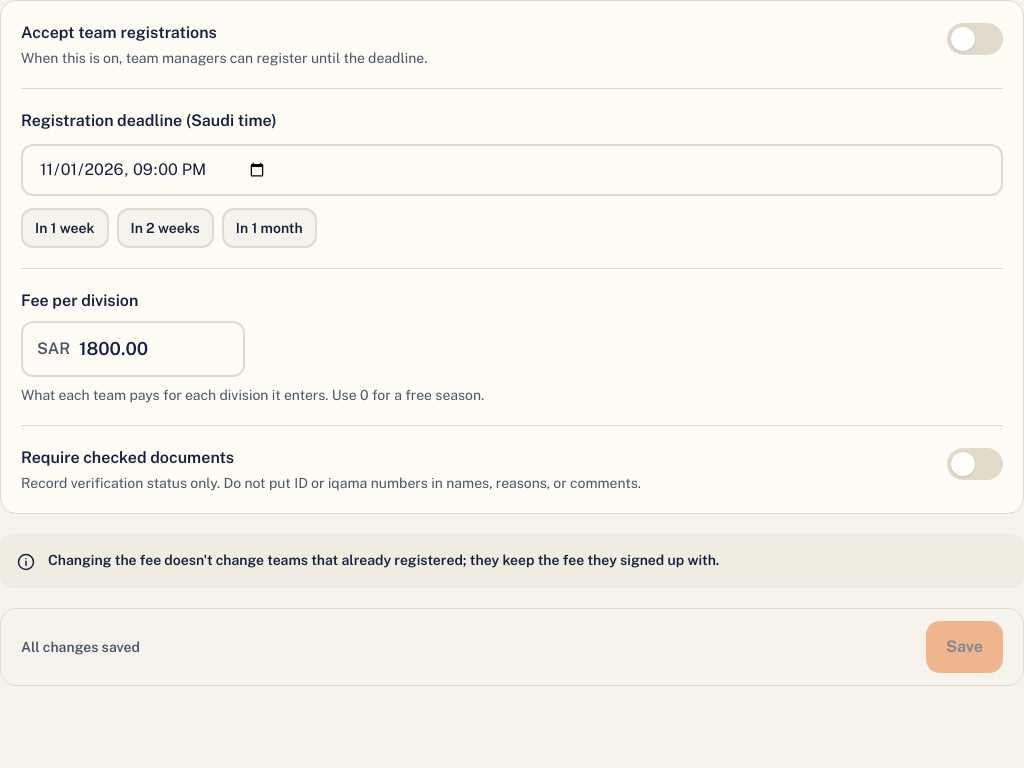
Test: registration settings › only offers Save once something changed
Expected: the button "Save" is disabled, [926,621,1003,673]
Expected: the text "All changes saved" is shown, [21,639,140,655]
Click the switch named "Accept team registrations" in the row of "Accept team registrations".
click(975, 39)  # box [947,23,1003,55]
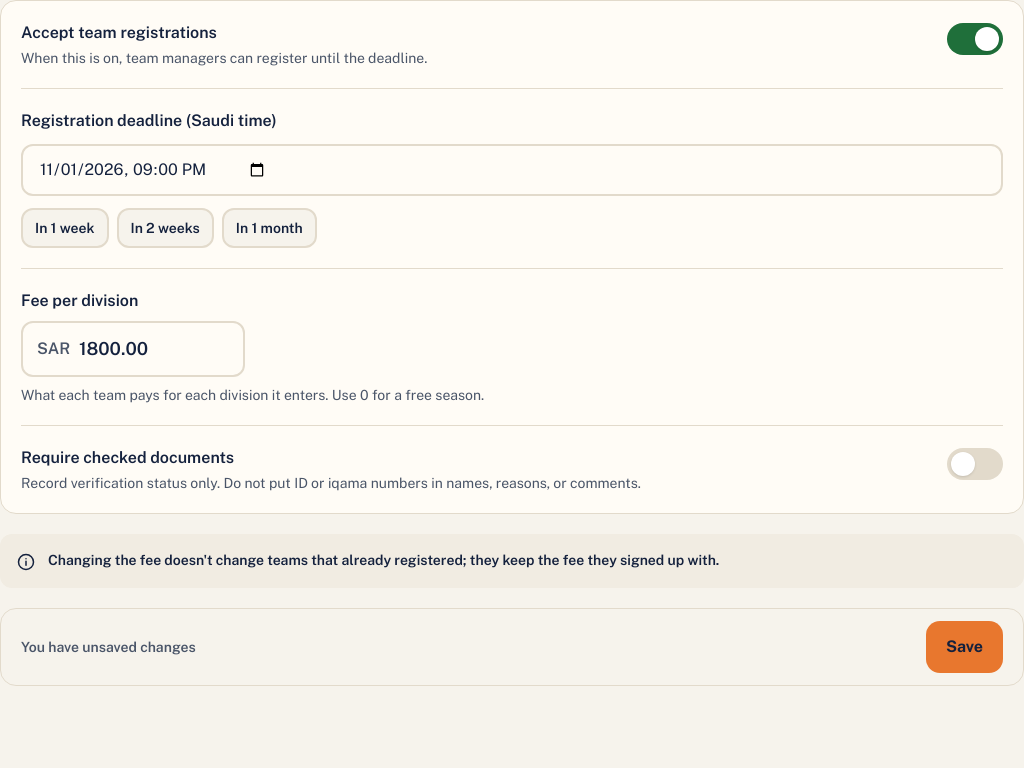
Now the button "Save" is enabled, box [926,621,1003,673]
Now the text "You have unsaved changes" is shown, box [21,639,196,655]
